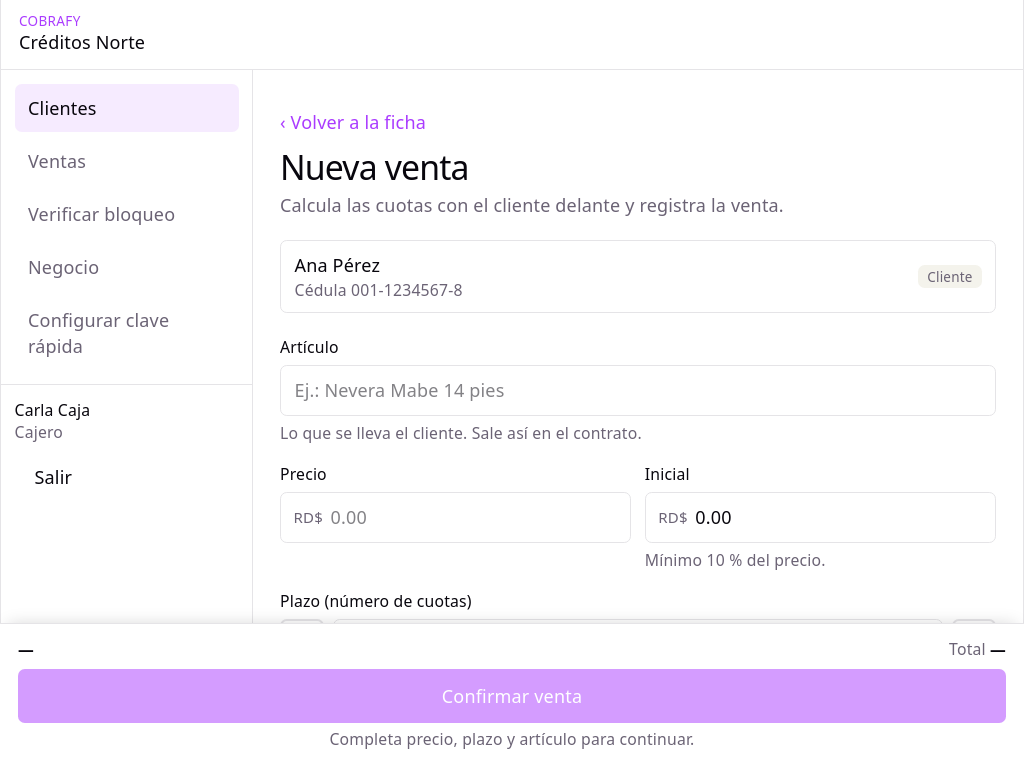
Scenario: CBF-206 ventas › mensual desde el 31-ene muestra 28/02, 31/03 y 30/04
The image size is (1024, 766).
Check: the heading "Nueva venta" is shown, box [280,144,469,190]
Type "Nevera Mabe 14 pies" into the field labelled "Artículo" at (638, 390), box [280,365,996,416]
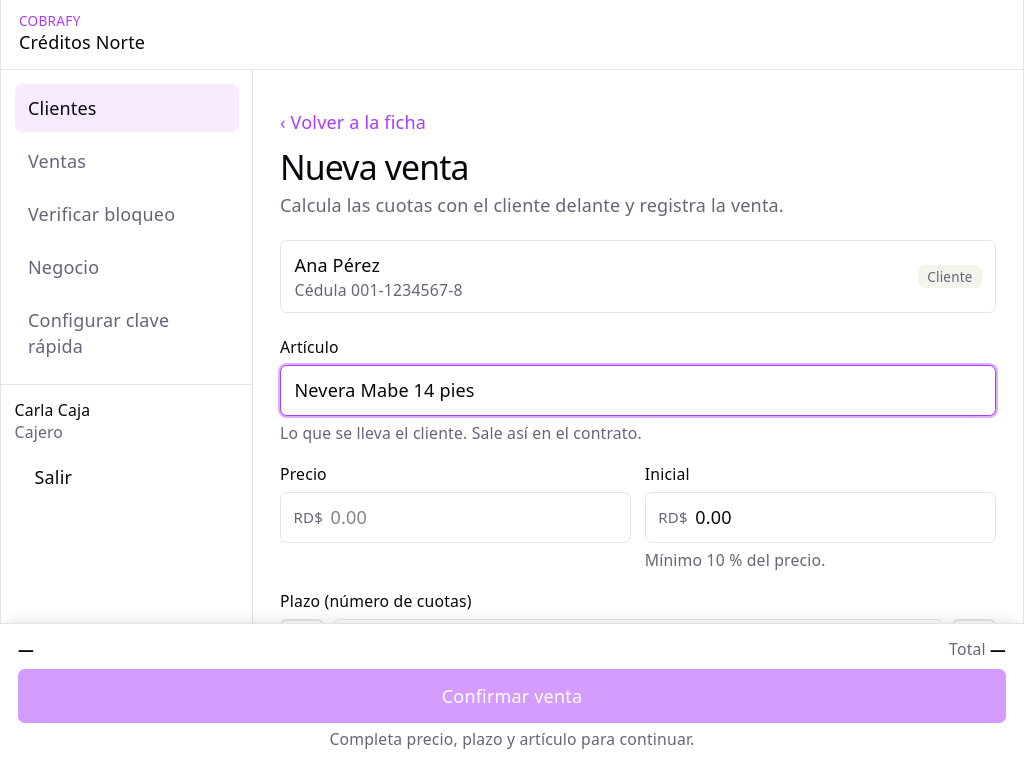
Type "18500.00" into the field labelled "Precio" at (456, 517), box [280,492,631,543]
(page scrolled)
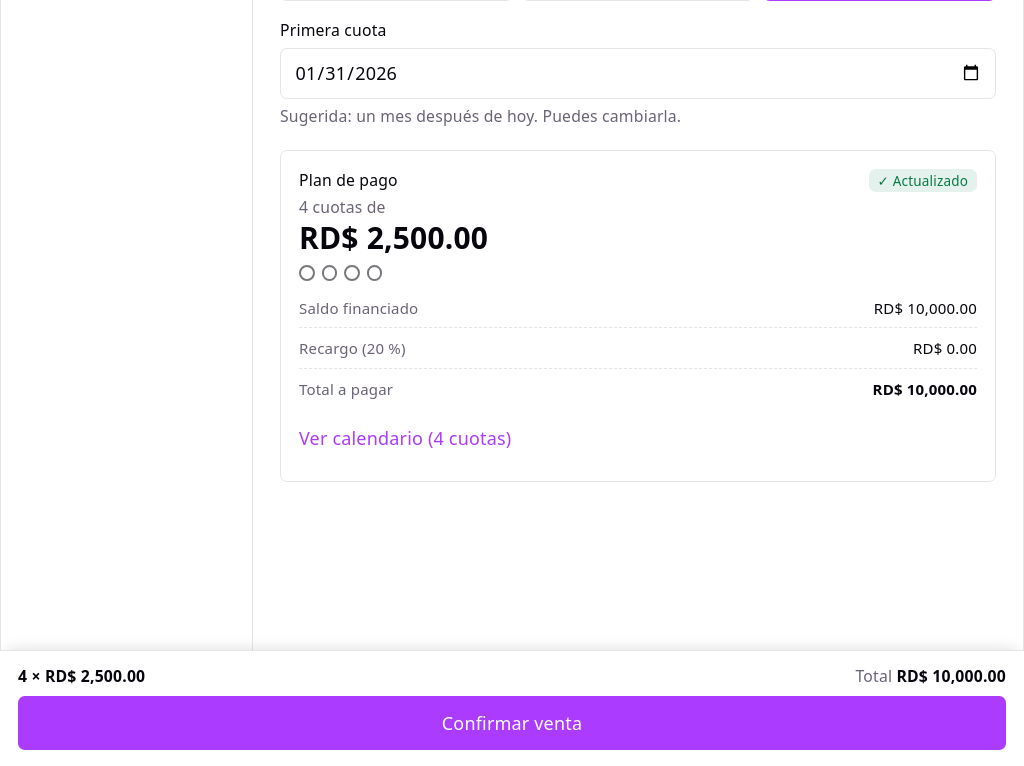
Click the heading "Ver calendario (4 cuotas)" at (405, 438), box [299,426,511,450]
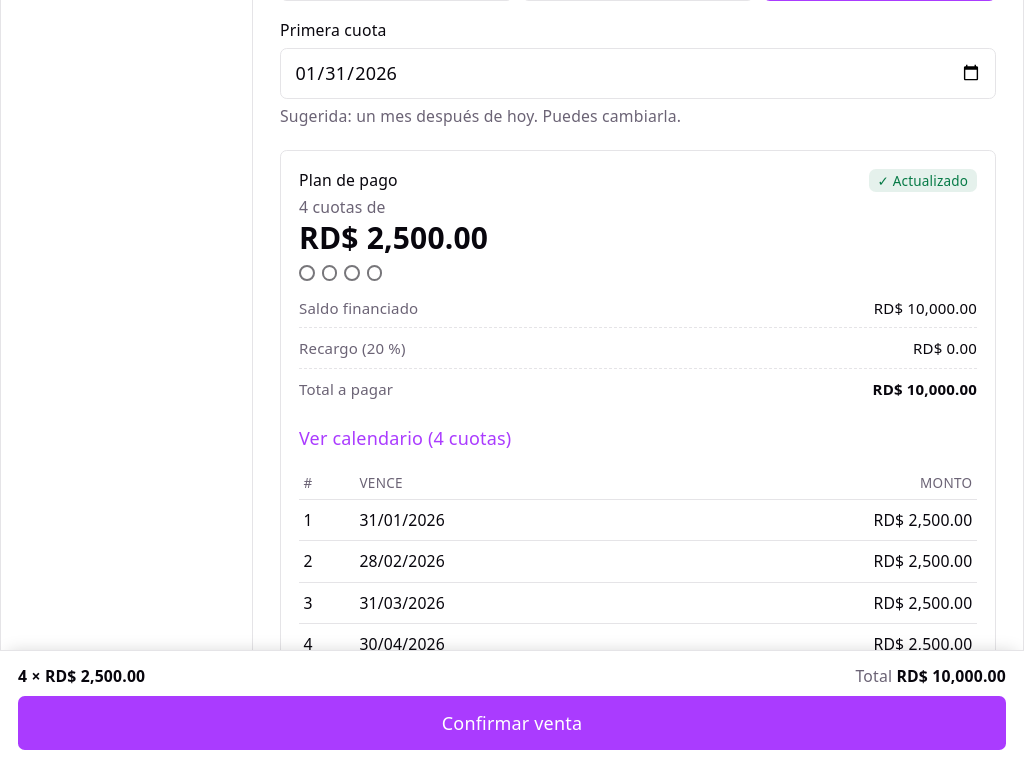
Check: the text "28/02/2026" is shown, box [355,541,645,582]
Check: the text "31/03/2026" is shown, box [355,582,645,624]
Check: the text "30/04/2026" is shown, box [355,624,645,665]
